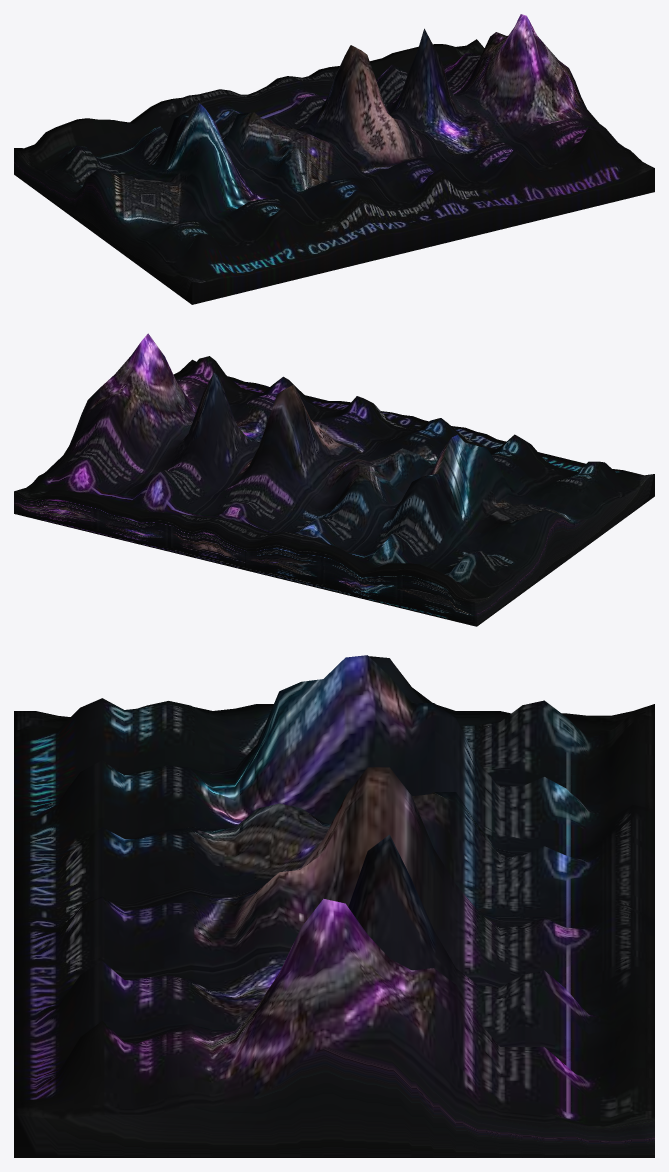
Rendered from MATERIAL_Contraband_6Tier.glb.
The picture shows the model from 3 angles, top to bottom: view 1: azimuth 30°, elevation 25°; view 2: azimuth 150°, elevation 25°; view 3: azimuth 270°, elevation 25°; orthographic projection. The views are drawn at different scales.
Visible parts, largest first — view 1: MATERIAL_Contraband_6Tier; view 2: MATERIAL_Contraband_6Tier; view 3: MATERIAL_Contraband_6Tier.
Boxes of the visible parts, <box> form: MATERIAL_Contraband_6Tier: <box>14,14,654,304</box>; MATERIAL_Contraband_6Tier: <box>14,333,654,626</box>; MATERIAL_Contraband_6Tier: <box>14,655,654,1157</box>.
Bounding box in the file's own units: 2 × 0.51 × 1.33.
1 material, 1 textured.
